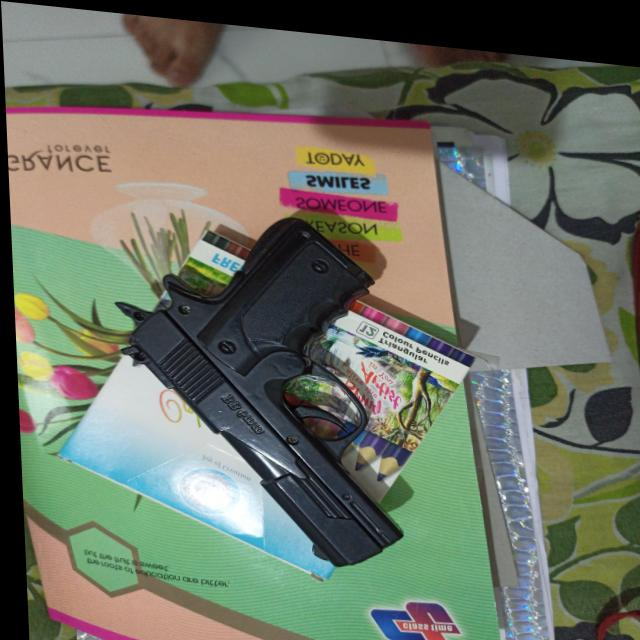handgun: (109, 190, 404, 567)
